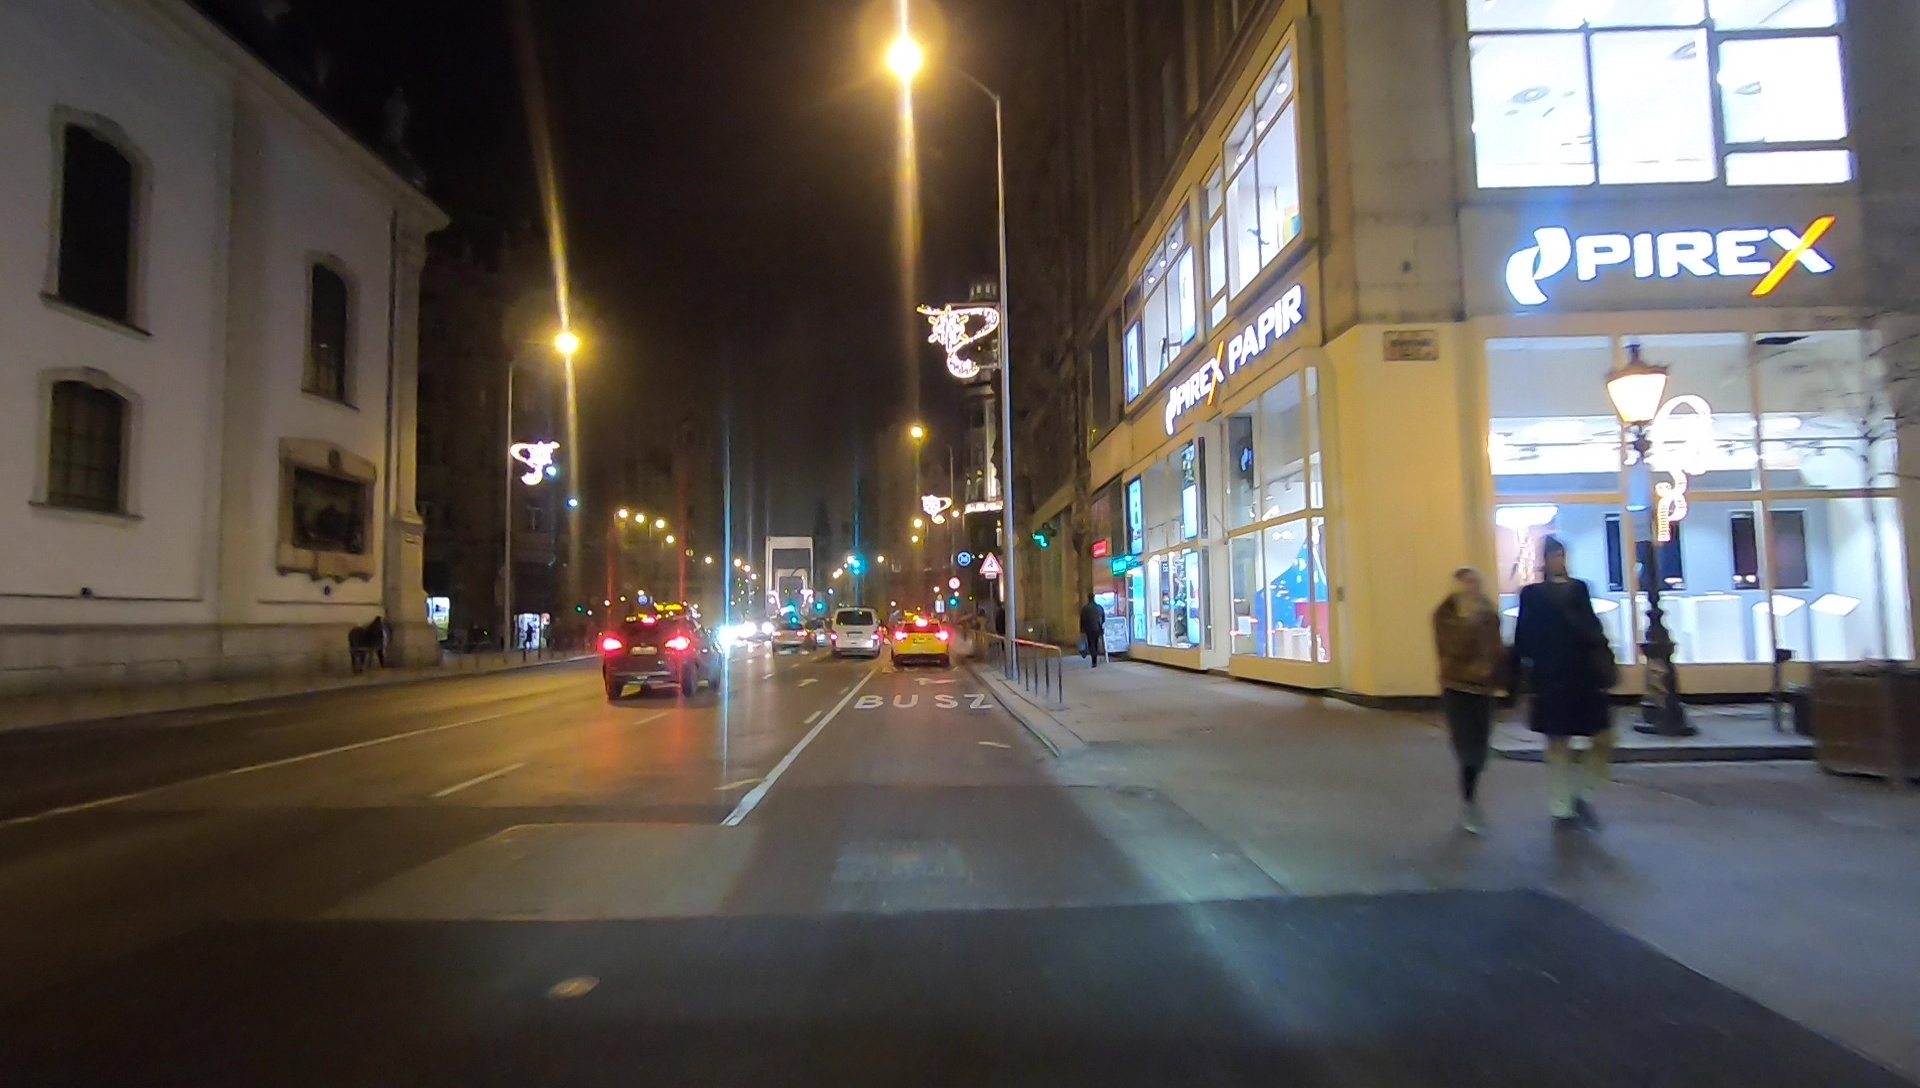person: (1517, 531, 1618, 828), (1428, 563, 1512, 845), (1078, 593, 1104, 667), (369, 616, 386, 670), (349, 620, 366, 673)
